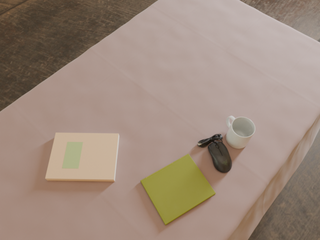book: (141, 154, 216, 225), (45, 133, 119, 181)
cup: (226, 116, 255, 149)
mouse: (198, 134, 232, 173)
